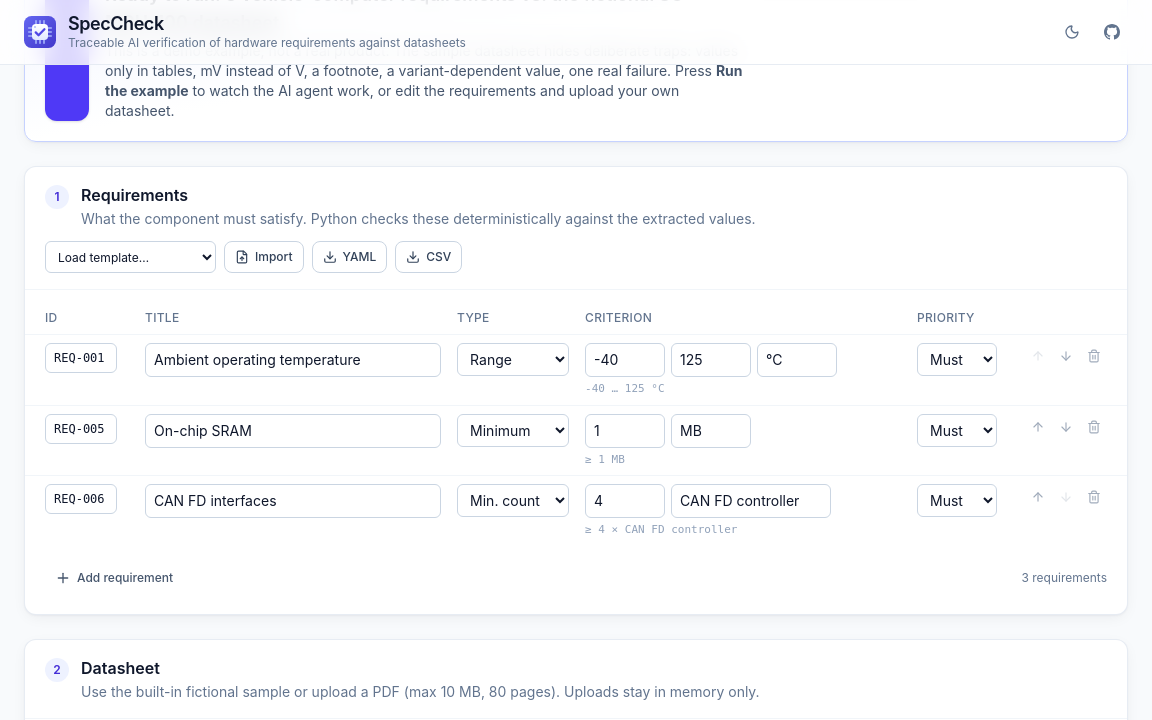
Test: App flow › disables the run button while requirements are invalid
This screenshot has width=1152, height=720.
(page scrolled)
Clear the field named "Title of REQ-001" at (293, 360), box x1=145 y1=343 x2=441 y2=377
(page scrolled)
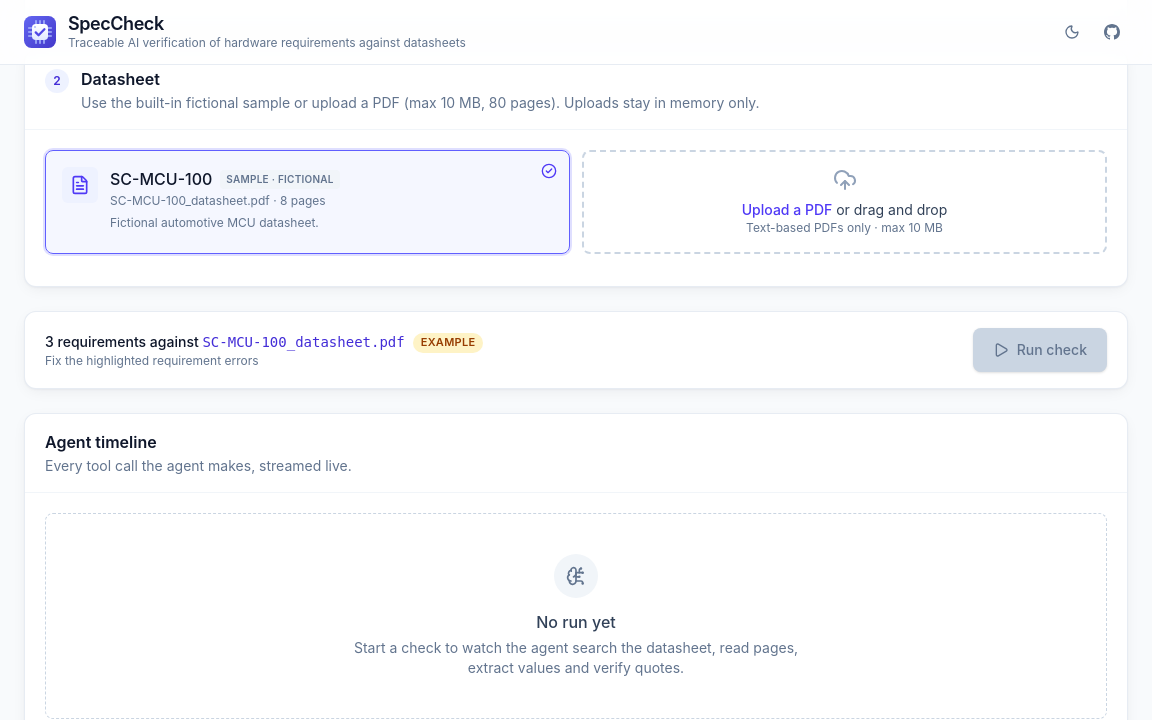
Expected: the button "Run check" is disabled, x1=973 y1=328 x2=1107 y2=372
Expected: the text "Fix the highlighted requirement errors" is shown, x1=45 y1=353 x2=258 y2=368
